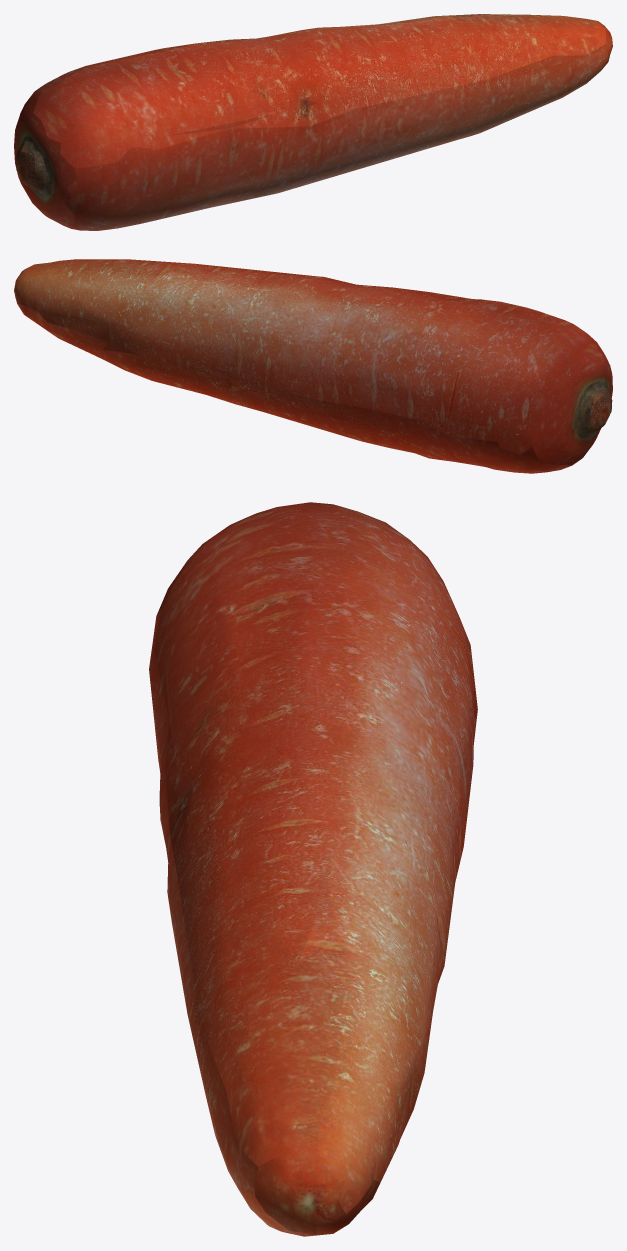
Rendered from carrot.gltf.
The picture shows the model from 3 angles, top to bottom: view 1: azimuth 30°, elevation 25°; view 2: azimuth 150°, elevation 25°; view 3: azimuth 270°, elevation 25°; orthographic projection. The views are drawn at different scales.
Parts seen in each view (by area): view 1: 胡萝卜01; view 2: 胡萝卜01; view 3: 胡萝卜01.
Boxes of the visible parts, <box> form: 胡萝卜01: <box>14,14,612,230</box>; 胡萝卜01: <box>14,259,612,473</box>; 胡萝卜01: <box>149,502,477,1236</box>.
Bounding box in the file's own units: 0.1416 × 0.036 × 0.0343.
Materials: 1 (1 with a texture image).
